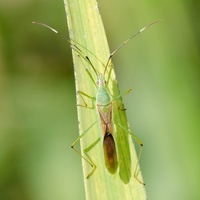insect: (32, 20, 160, 173)
